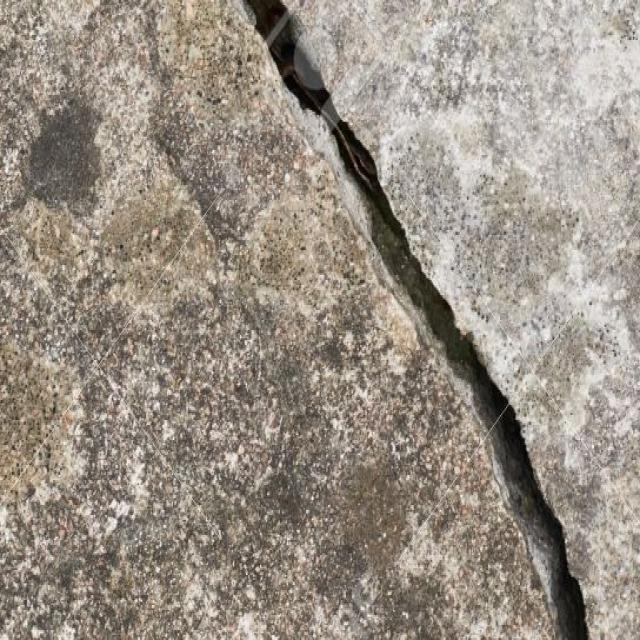spall: (242, 1, 594, 638)
